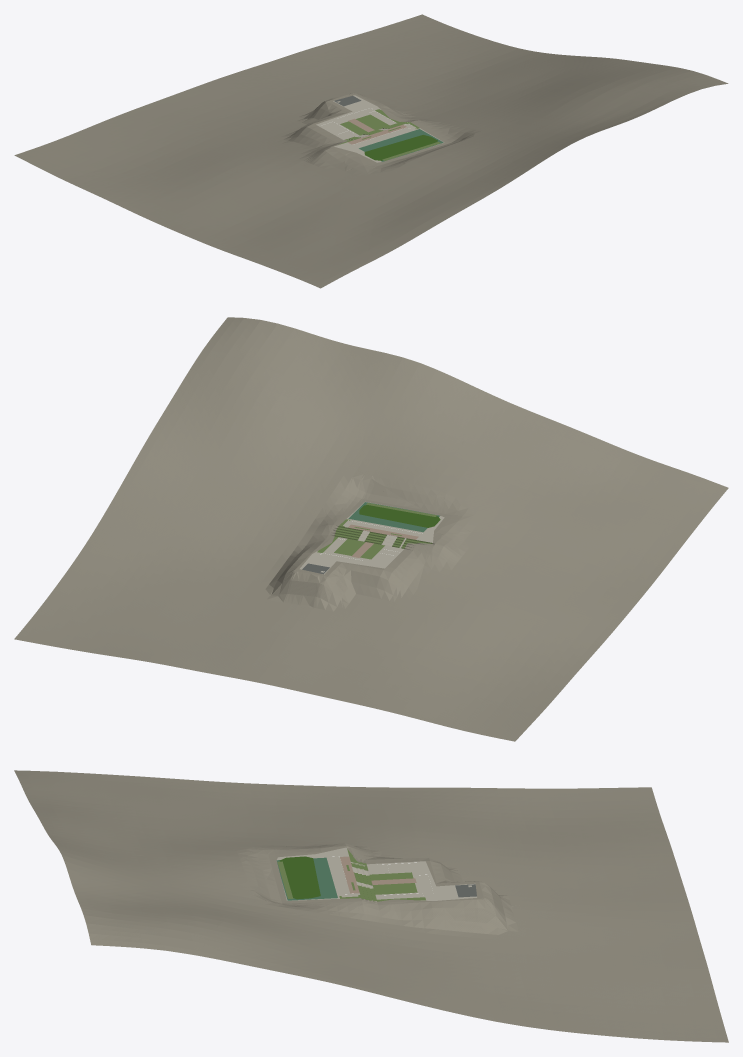
The picture shows the model from 3 angles, top to bottom: view 1: azimuth 30°, elevation 25°; view 2: azimuth 150°, elevation 25°; view 3: azimuth 270°, elevation 25°; orthographic projection. The views are drawn at different scales.
Parts seen in each view (by area): view 1: ground_context-estimated, surface_school-paved-walk, surface_sports-field, surface_sports-field-track, surface_central-garden-lawn; view 2: ground_context-estimated, surface_school-paved-walk, surface_sports-field, surface_terrace-beds; view 3: ground_context-estimated, surface_school-paved-walk, surface_sports-field, surface_sports-field-track, surface_central-garden-lawn, surface_terrace-beds.
Boxes of the visible parts, left/top/right/bottom form: ground_context-estimated: left=14, top=14, right=728, bottom=288; surface_school-paved-walk: left=316, top=95, right=444, bottom=162; surface_sports-field: left=364, top=135, right=437, bottom=160; surface_sports-field-track: left=359, top=129, right=443, bottom=161; surface_central-garden-lawn: left=340, top=114, right=389, bottom=135; ground_context-estimated: left=14, top=317, right=728, bottom=741; surface_school-paved-walk: left=300, top=501, right=444, bottom=574; surface_sports-field: left=359, top=505, right=440, bottom=527; surface_terrace-beds: left=334, top=526, right=432, bottom=548; ground_context-estimated: left=14, top=770, right=728, bottom=1042; surface_school-paved-walk: left=277, top=847, right=476, bottom=900; surface_sports-field: left=279, top=856, right=320, bottom=899; surface_sports-field-track: left=276, top=857, right=337, bottom=900; surface_central-garden-lawn: left=369, top=872, right=417, bottom=894; surface_terrace-beds: left=347, top=849, right=376, bottom=901.
Bounding box in the file's own units: 801 × 183 × 801.
Materials: 7 (7 with a texture image).
